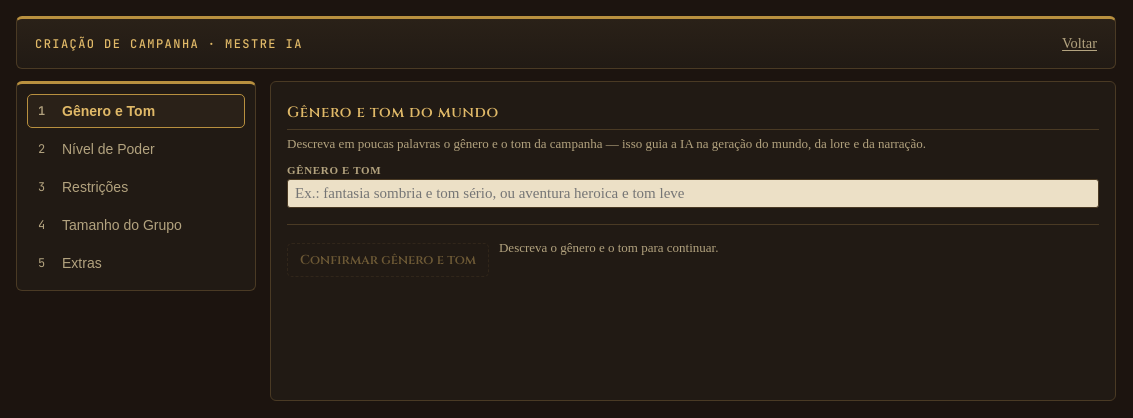
wizard de criação de mundo por IA › bloqueia avanço com campo obrigatório vazio e libera ao preencher
The image size is (1133, 418).
expect the button "Confirmar gênero e tom" is disabled: met, box [287,243,489,277]
Step 1. Type "Fantasia sombria" into the field labelled "Gênero e tom" → coordinates (693, 194), box [287,179,1099,208]
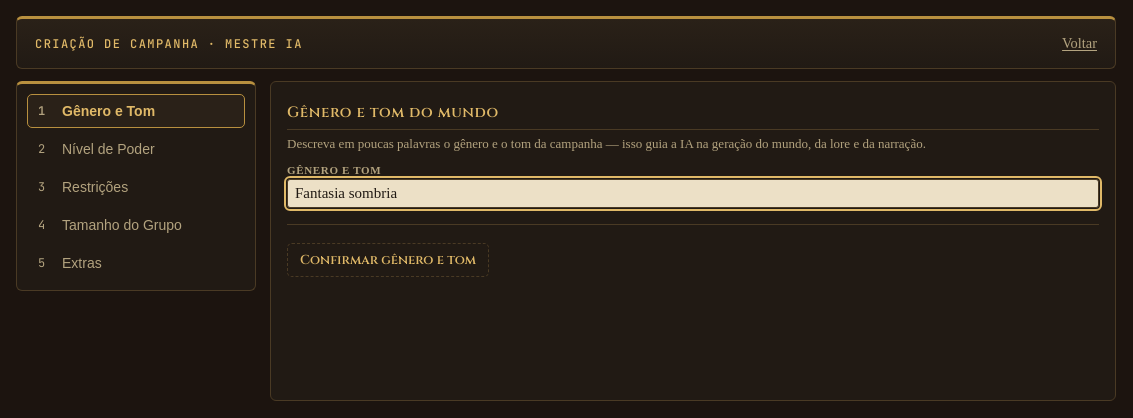
expect the button "Confirmar gênero e tom" is enabled: met, box [287,243,489,277]
